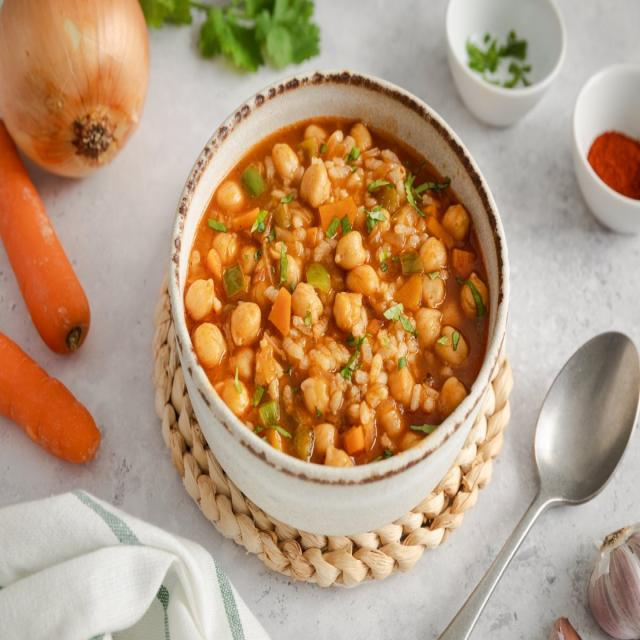garbanzos: (179, 98, 492, 480)
